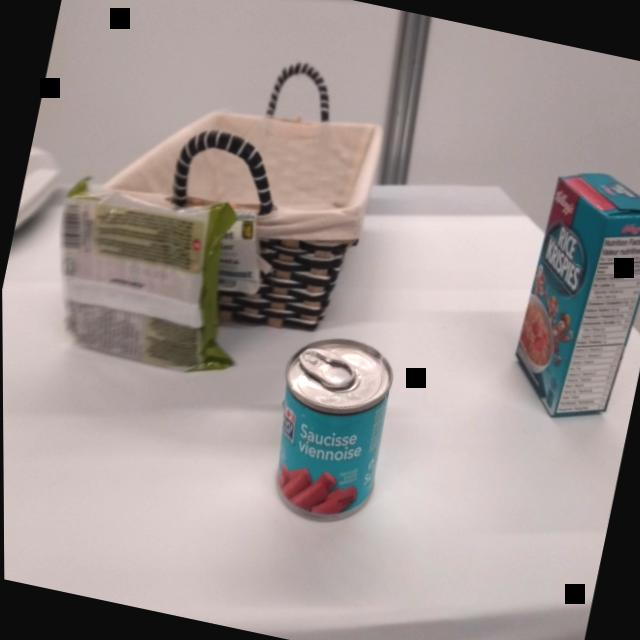cereal: (495, 154, 640, 436)
noodles: (27, 169, 270, 395)
sausages: (251, 323, 406, 536)
